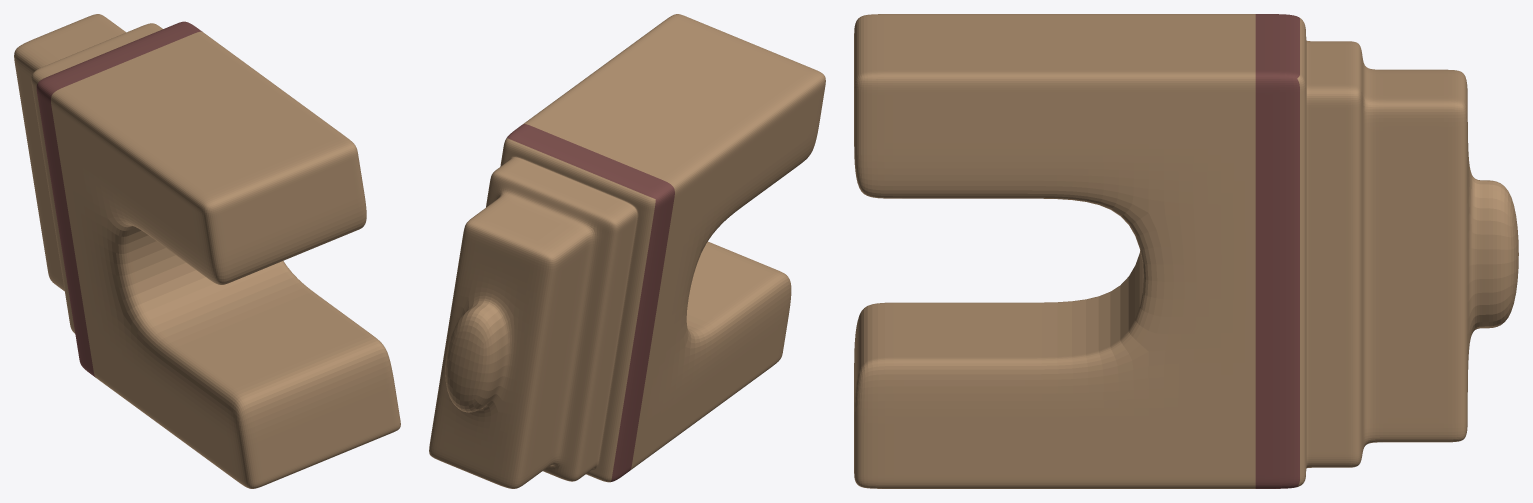
File: IndiaGate3.fbx
3 views of the same model, side by side, from view 1: azimuth 30°, elevation 25°; view 2: azimuth 150°, elevation 25°; view 3: azimuth 270°, elevation 25° (orthographic). The views are drawn at different scales.
Parts seen in each view (by area): view 1: IndiaGate; view 2: IndiaGate; view 3: IndiaGate.
Boxes of the visible parts, box(x1,y1,x2,y2) form: IndiaGate: box(14, 14, 400, 488); IndiaGate: box(429, 14, 825, 488); IndiaGate: box(854, 14, 1518, 488).
Size of the model in its own units: 208 by 324 by 467.
